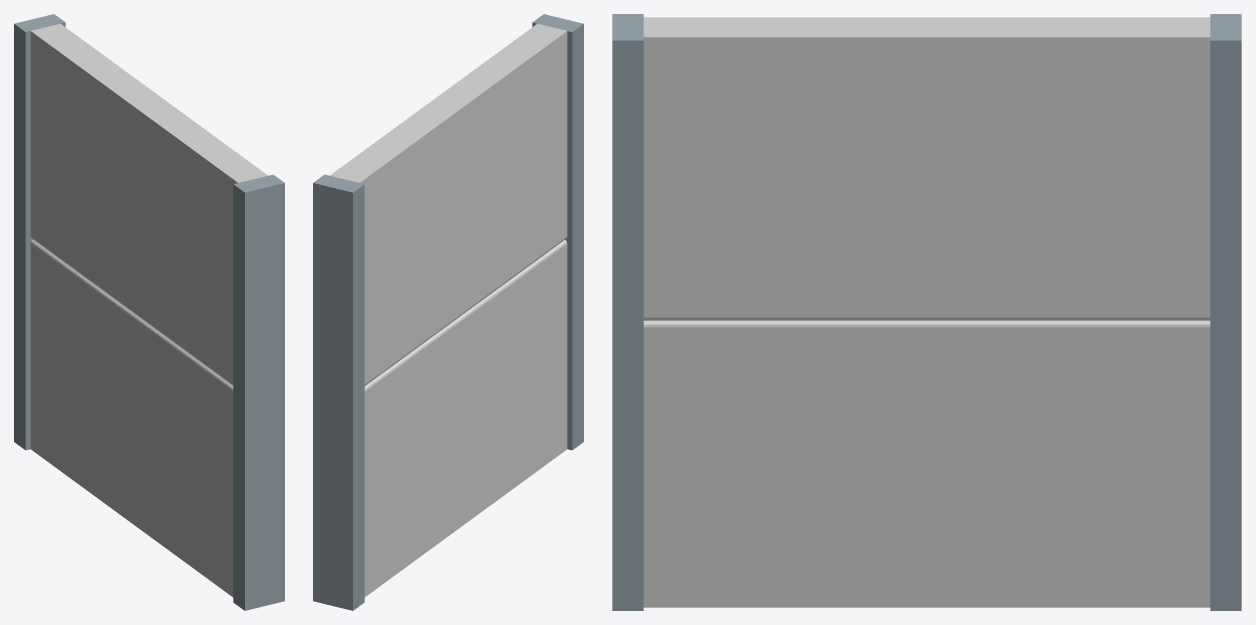
The model's file is Wall.fbx.
3 views of the same model, side by side, from view 1: azimuth 30°, elevation 25°; view 2: azimuth 150°, elevation 25°; view 3: azimuth 270°, elevation 25° (orthographic). The views are drawn at different scales.
Visible parts, largest first — view 1: Cube; view 2: Cube; view 3: Cube.
Part boxes in pixels (box(x1,y1,x2,y2)): Cube: box(14, 14, 284, 610); Cube: box(313, 14, 583, 610); Cube: box(612, 14, 1241, 610).
Size of the model in its own units: 20 by 200 by 200.
